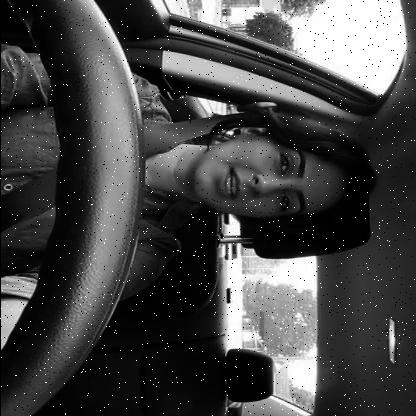seatbelt: (0, 93, 385, 251)
